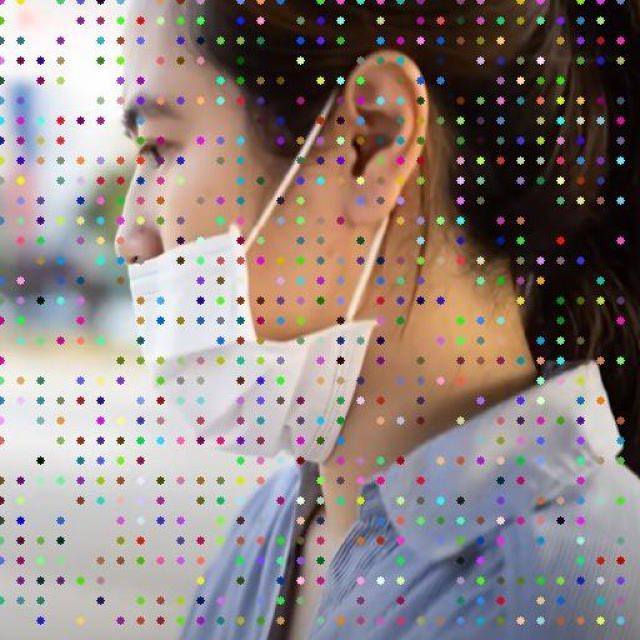hairnet: (112, 80, 376, 462)
